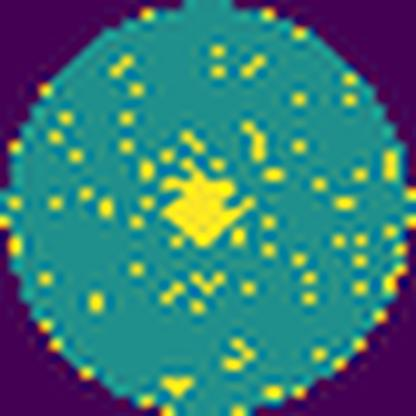Center: (158, 158, 254, 248)
